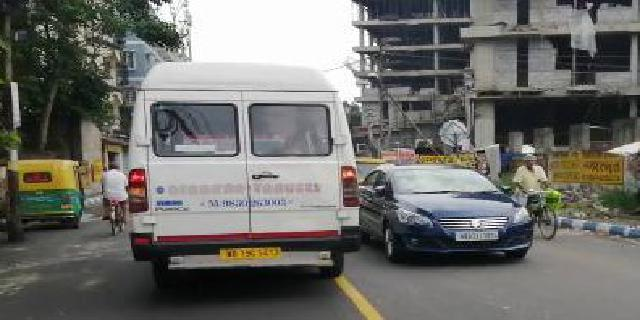Autorickshaw: (18, 153, 85, 230)
Car: (358, 162, 535, 268)
Cycle: (513, 153, 568, 243), (99, 160, 128, 238)
Van: (126, 59, 364, 294)
